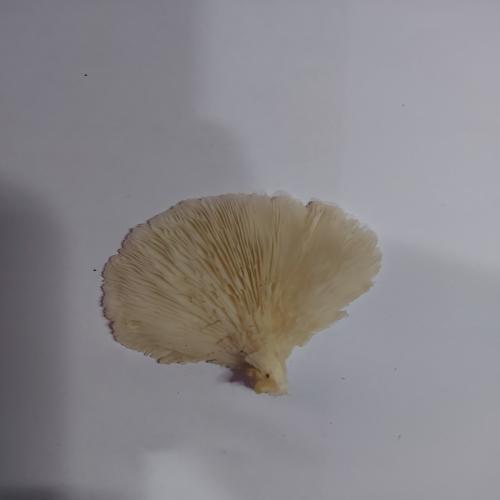Oyster Mushroom: (98, 190, 383, 397)
